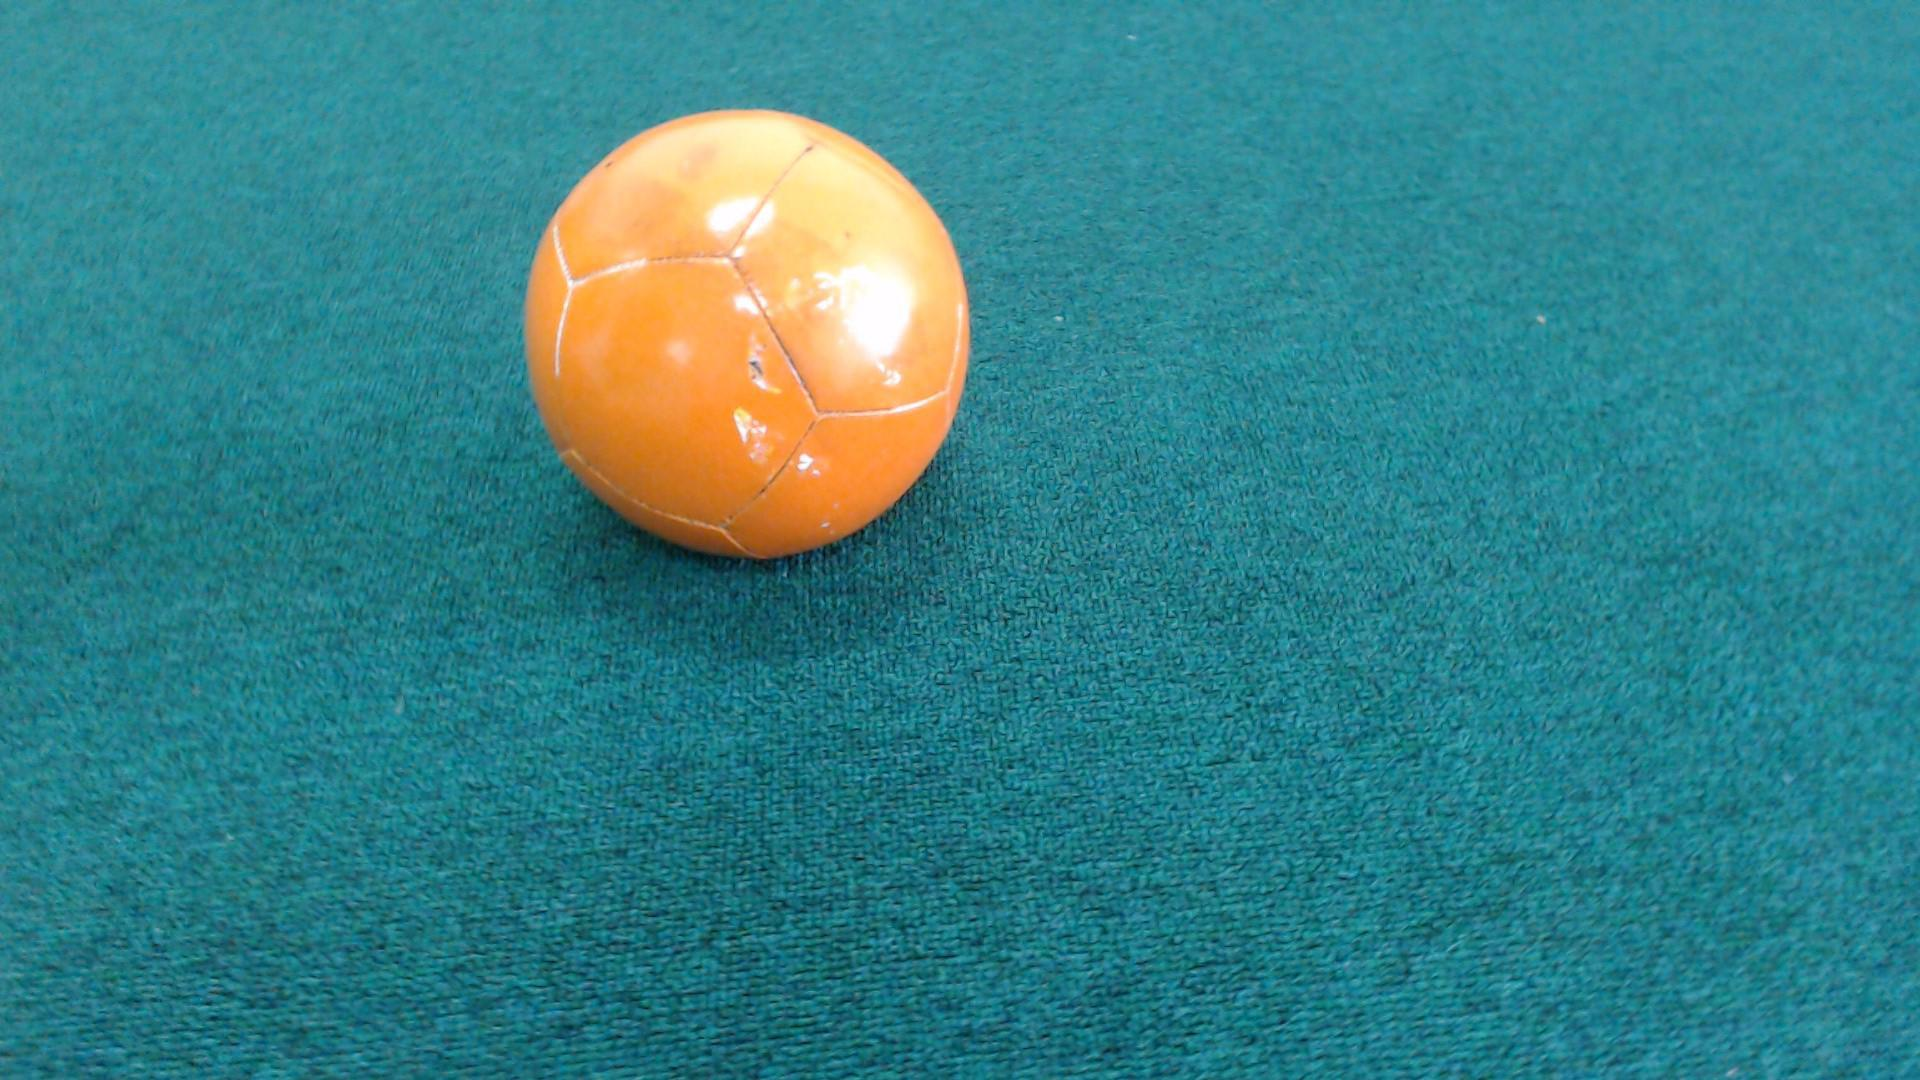bola: (495, 98, 981, 585)
